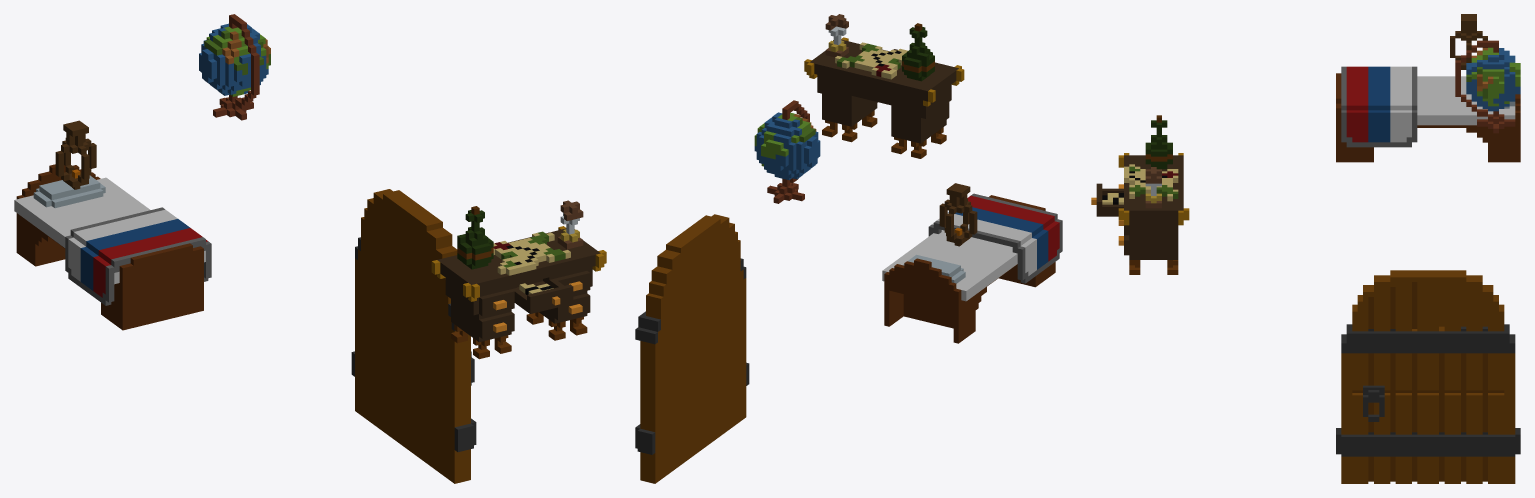
Rendered from ship-5.obj.
3 renders of one model, left to right at view 1: azimuth 30°, elevation 25°; view 2: azimuth 150°, elevation 25°; view 3: azimuth 270°, elevation 25°, orthographic. The views are drawn at different scales.
Size of the model in its own units: 7 by 7.7 by 7.9.
1 material, 1 textured.
